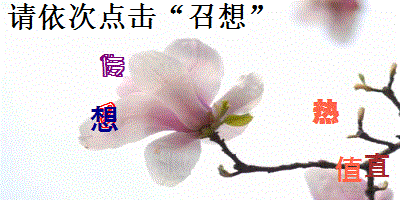text: (89, 105, 120, 135), (311, 98, 341, 125), (335, 155, 362, 184), (99, 51, 126, 78), (364, 152, 391, 179)
